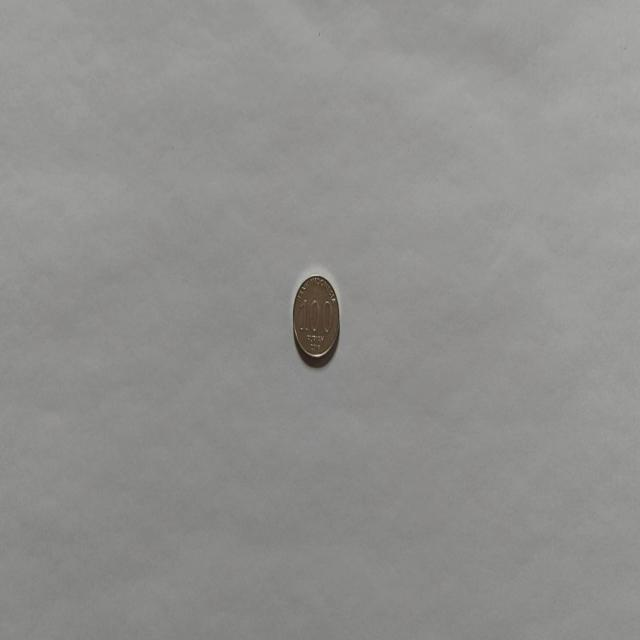seratus rupiah: (292, 272, 341, 366)
